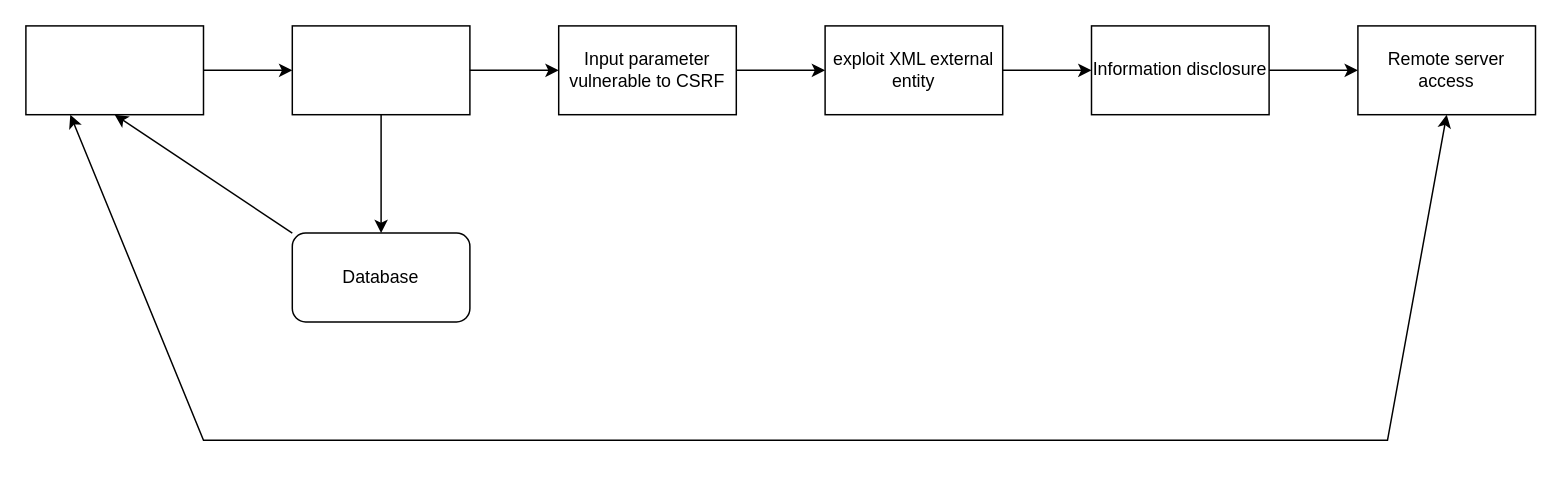
Some shapes in this 1561 by 480 pixel diagram are drawn without their labels. Each missing label, with the centre of its shape:
"Attacker" belongs at (x=114, y=69).
"Web Application (SQL injection)" belongs at (x=380, y=69).
